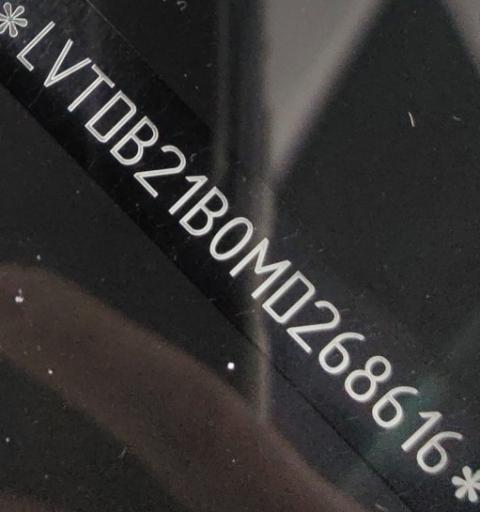letter: (229, 238, 291, 298), (256, 270, 315, 324), (133, 143, 189, 197), (85, 88, 136, 142), (285, 300, 340, 350), (180, 185, 229, 235), (64, 65, 115, 113), (14, 18, 57, 74), (42, 39, 92, 87), (109, 116, 158, 164), (343, 356, 392, 404), (317, 330, 364, 374), (207, 217, 253, 261), (415, 430, 461, 474), (372, 384, 417, 428), (396, 410, 442, 452), (167, 172, 211, 214)
